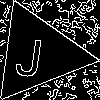J: (12, 28, 46, 78)
